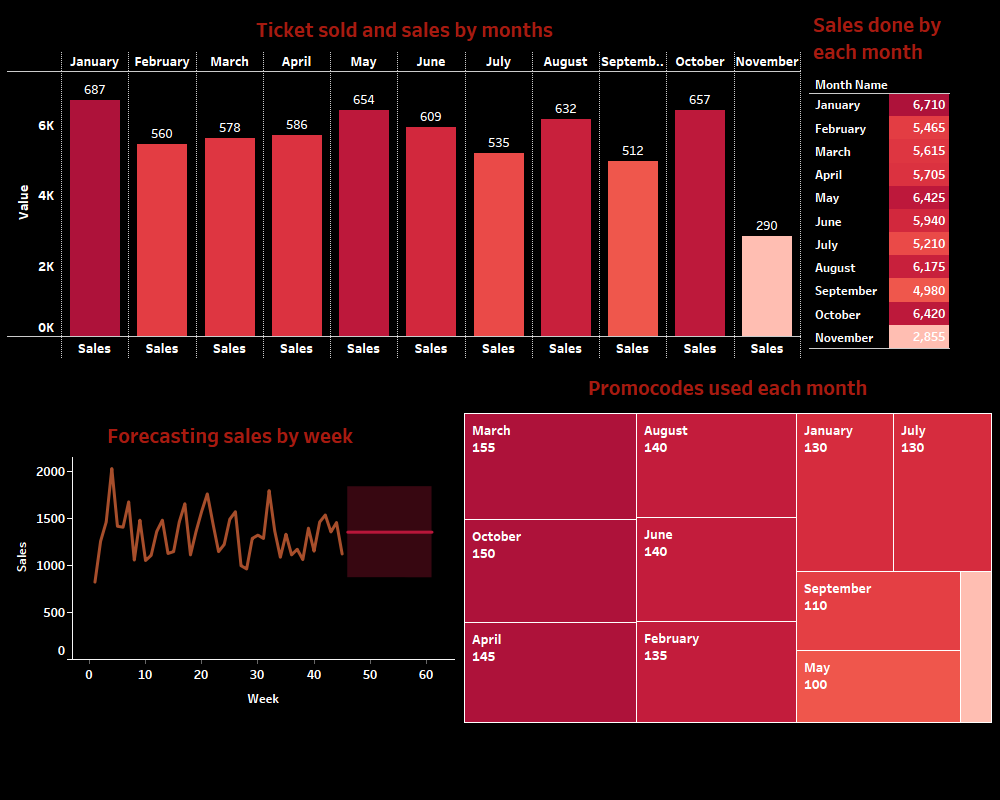

This screenshot's page, from the dashboard's own definition file:
{"tool":"tableau","page":{"name":"Dashboard 2","canvas":[1000,800],"ordinal":1},"visuals":[{"type":"worksheet","title":"sales done by each month","mark":"Square","rows":["month_name"],"box":[809,4,184,346]},{"type":"worksheet","title":"ticket sold and sales by month","mark":"Bar","cols":["month_name"],"box":[7,9,795,350]},{"type":"worksheet","title":"no of promocodes udes each month","mark":"Automatic","box":[460,367,535,360]},{"type":"worksheet","title":"forecasting sales by week","mark":"Automatic","rows":["Sales"],"cols":["week"],"box":[6,415,448,299]}]}

Visuals, with their boxes in screenshot pixels (x1, y1, x2, y2), scaled from the page's 1000x800 canvas onto the 1000x800 screenshot:
"sales done by each month" worksheet (Square marks): <bbox>809, 4, 993, 350</bbox>
"ticket sold and sales by month" worksheet (Bar marks): <bbox>7, 9, 802, 359</bbox>
"no of promocodes udes each month" worksheet: <bbox>460, 367, 995, 727</bbox>
"forecasting sales by week" worksheet: <bbox>6, 415, 454, 714</bbox>
